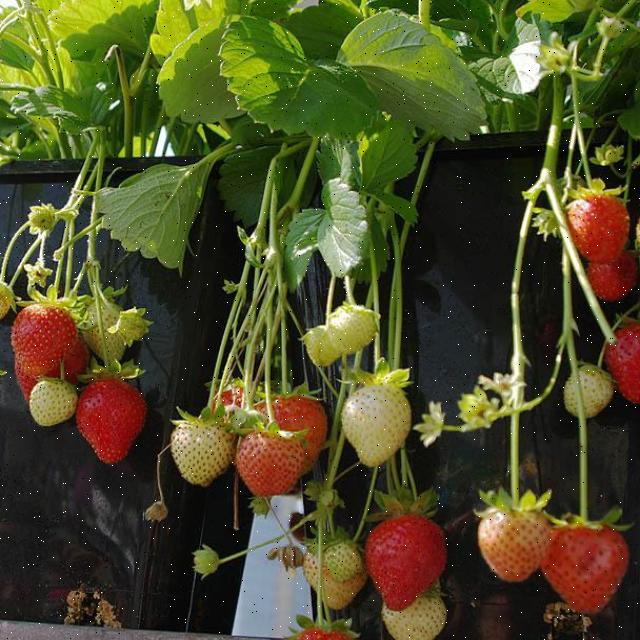Ripe Strawberry: (366, 514, 445, 608), (81, 379, 143, 463), (18, 306, 76, 376), (568, 198, 629, 259), (610, 325, 640, 402), (585, 261, 630, 299), (63, 340, 88, 374), (15, 361, 38, 397)
